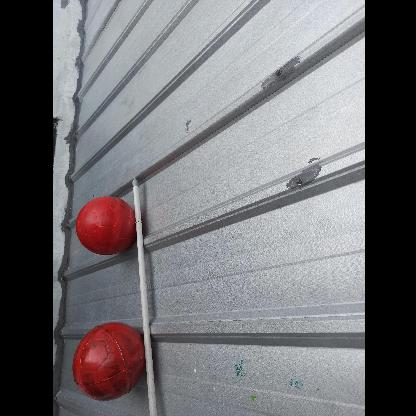red_ball: (67, 319, 149, 401), (72, 193, 134, 254)
